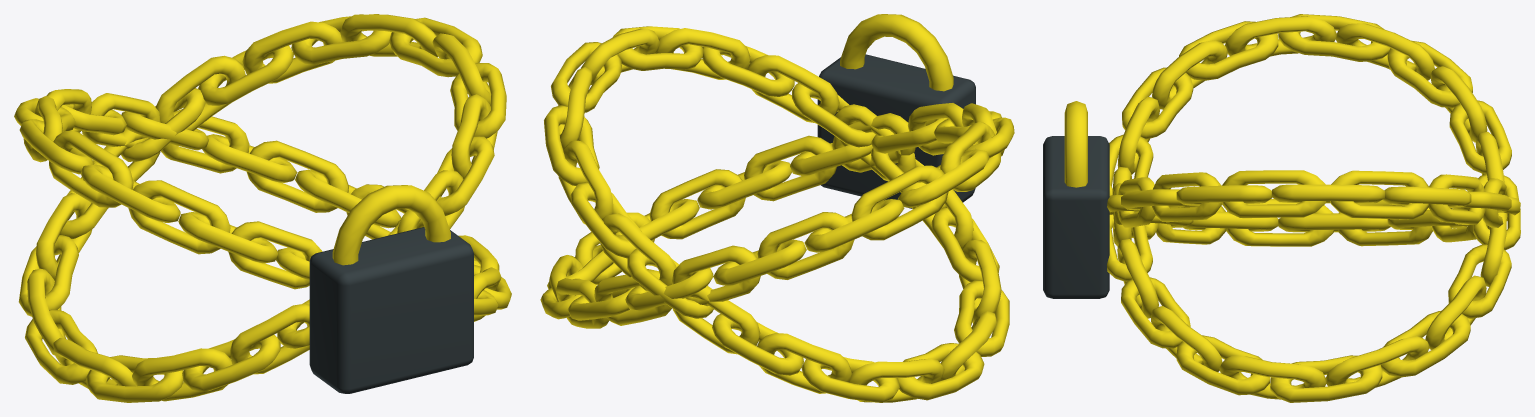
File: lock.fbx
3 views of the same model, side by side, from view 1: azimuth 30°, elevation 25°; view 2: azimuth 150°, elevation 25°; view 3: azimuth 270°, elevation 25° (orthographic). The views are drawn at different scales.
Parts seen in each view (by area): view 1: lock; view 2: lock; view 3: lock.
Part boxes in pixels (left/top/right/bottom): lock: left=14, top=14, right=511, bottom=402; lock: left=540, top=14, right=1014, bottom=402; lock: left=1043, top=14, right=1520, bottom=402.
Bounding box in the file's own units: 11.62 × 6.72 × 12.31.
